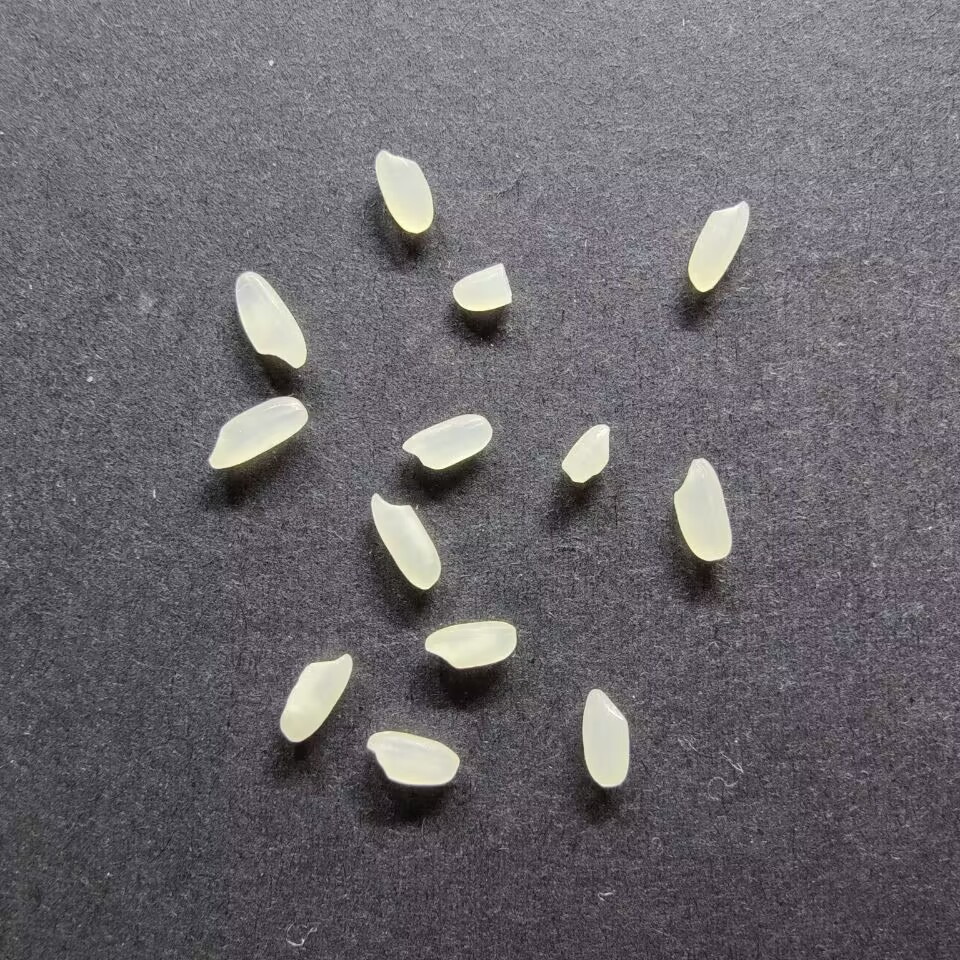broken: (449, 258, 515, 313), (560, 420, 614, 485)
rice: (204, 394, 309, 470), (232, 267, 309, 370), (368, 491, 444, 593), (276, 652, 353, 744), (671, 456, 733, 564), (684, 198, 751, 293), (399, 411, 495, 471), (372, 147, 436, 236), (364, 729, 460, 787), (579, 687, 632, 790), (422, 616, 519, 670)
